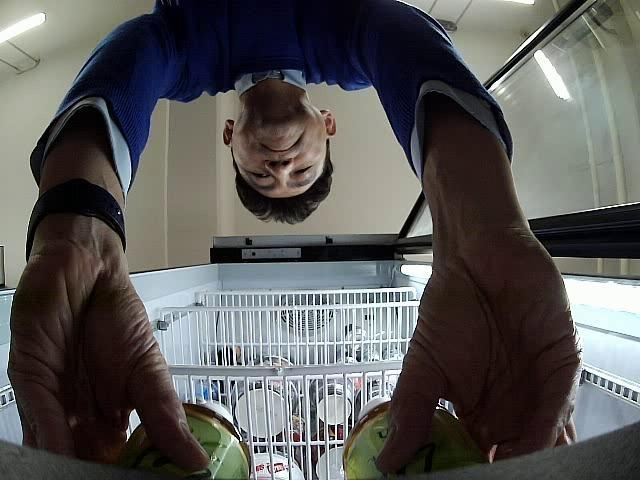19_17cha: (123, 384, 253, 480), (342, 393, 483, 479)
